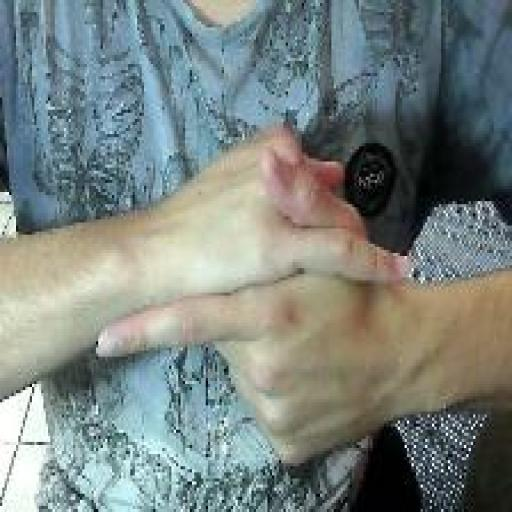U -hare-: (94, 116, 418, 472)
